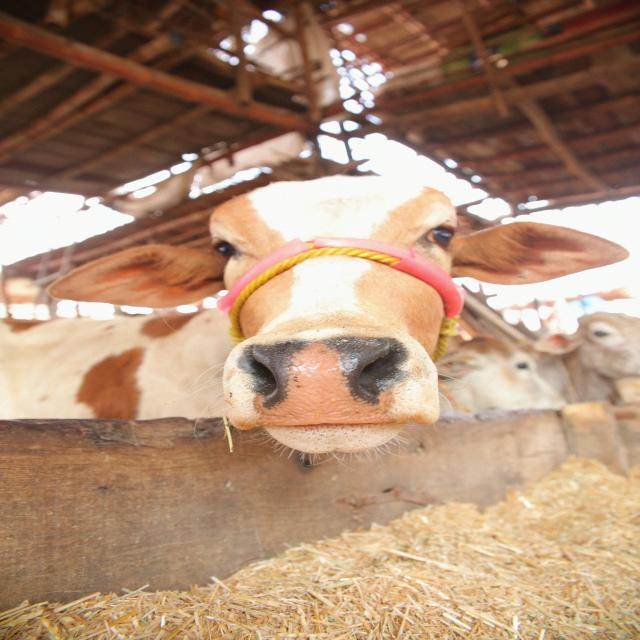muzzles: (235, 328, 426, 432)
